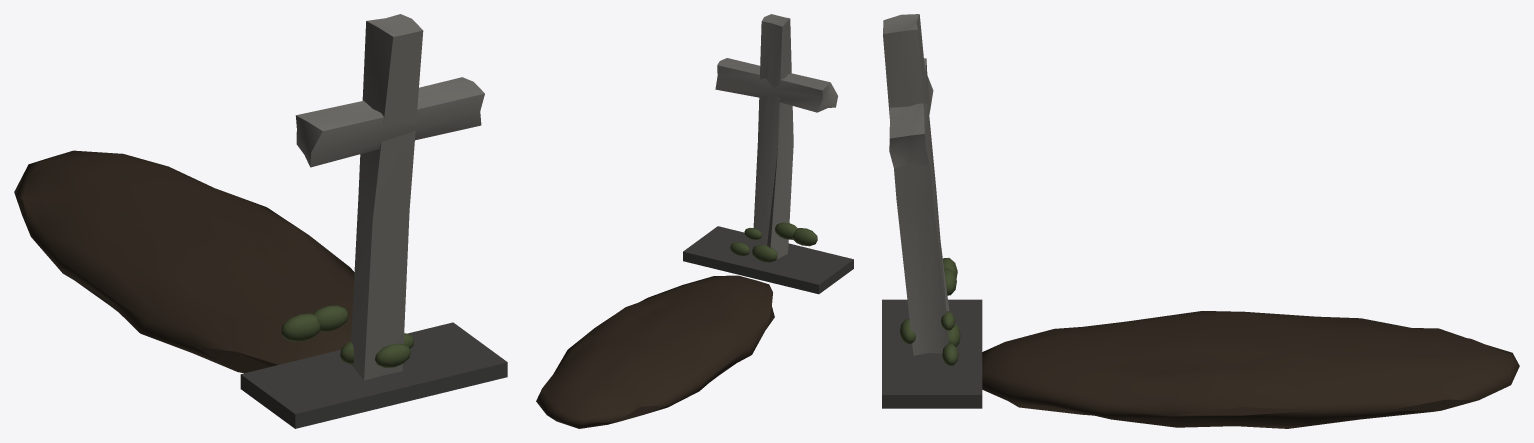
Rendered from SM_80s_Grave_Cross.glb.
3 renders of one model, left to right at view 1: azimuth 30°, elevation 25°; view 2: azimuth 150°, elevation 25°; view 3: azimuth 270°, elevation 25°, orthographic. The views are drawn at different scales.
Visible parts, largest first — view 1: SM_80s_Grave_Cross; view 2: SM_80s_Grave_Cross; view 3: SM_80s_Grave_Cross.
Part boxes in pixels (<box>): SM_80s_Grave_Cross: <box>14,14,507,428</box>; SM_80s_Grave_Cross: <box>536,14,853,428</box>; SM_80s_Grave_Cross: <box>882,14,1519,428</box>.
Bounding box in the file's own units: 0.9162 × 1.7 × 2.55.
